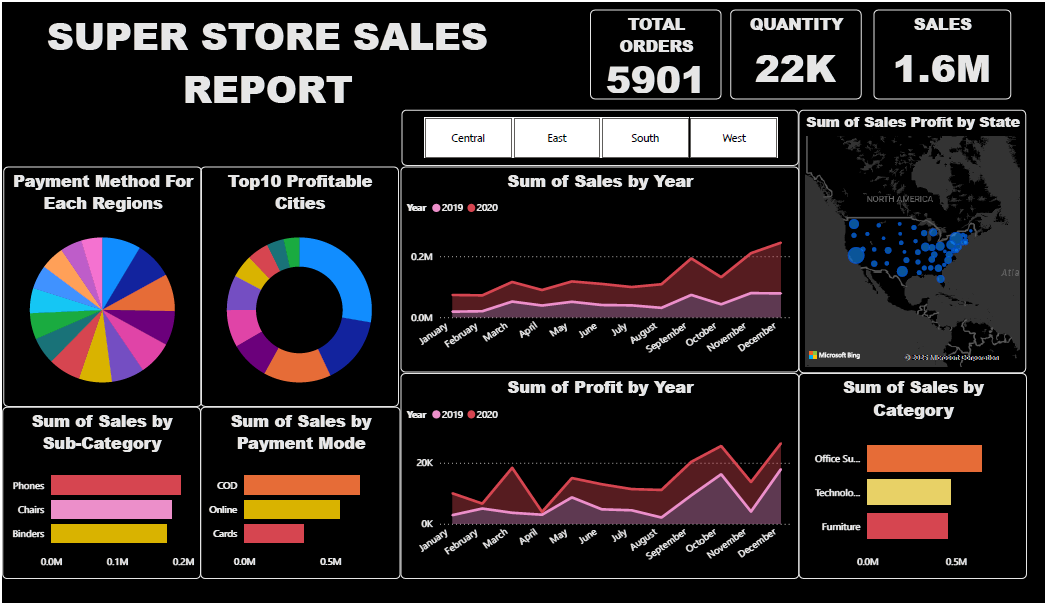

Layout of this report page (visuals, bound fields, positions):
{"tool":"powerbi","page":{"name":"Page 1","canvas":[1280,720],"ordinal":0},"visuals":[{"type":"card","title":"SALES","fields":{"Values":["Sum(SuperStore_Sales_Dataset.Sales)"]},"box":[1088.5,8.7,171.7,112],"z":0},{"type":"stackedAreaChart","title":"Sum of Sales by Year","fields":{"Category":["SuperStore_Sales_Dataset.Order Date.Variation.Date Hierarchy.Month"],"Y":["Sum(SuperStore_Sales_Dataset.Sales)"],"Series":["SuperStore_Sales_Dataset.Order Date.Variation.Date Hierarchy.Year"]},"box":[497.6,205.3,497.6,257.5],"z":1000},{"type":"stackedAreaChart","title":"Sum of Profit by Year","fields":{"Category":["SuperStore_Sales_Dataset.Order Date.Variation.Date Hierarchy.Month"],"Series":["SuperStore_Sales_Dataset.Order Date.Variation.Date Hierarchy.Year"],"Y":["Sum(SuperStore_Sales_Dataset.Profit)"]},"box":[497.6,462.8,497.6,257.5],"z":2000},{"type":"map","title":"Sum of Sales Profit by State","fields":{"Category":["SuperStore_Sales_Dataset.State"],"Size":["Sum(SuperStore_Sales_Dataset.Sales)"]},"box":[994.7,134.2,284.2,328.9],"z":3000},{"type":"clusteredBarChart","fields":{"Y":["Sum(SuperStore_Sales_Dataset.Sales)"],"Category":["SuperStore_Sales_Dataset.Category"]},"box":[995.2,462.8,284.9,257.5],"z":4000},{"type":"clusteredBarChart","fields":{"Y":["Sum(SuperStore_Sales_Dataset.Sales)"],"Category":["SuperStore_Sales_Dataset.Payment Mode"]},"box":[247.5,505,250,215.2],"z":5000},{"type":"clusteredBarChart","fields":{"Y":["Sum(SuperStore_Sales_Dataset.Sales)"],"Category":["SuperStore_Sales_Dataset.Sub-Category"]},"box":[0,505,247.5,215.2],"z":6000},{"type":"donutChart","title":"Top10 Profitable  Cities","fields":{"Y":["Sum(SuperStore_Sales_Dataset.Profit)"],"Category":["SuperStore_Sales_Dataset.City"]},"box":[247.5,205.3,247.5,299.8],"z":7000},{"type":"pieChart","title":"Payment Method For Each Regions","fields":{"Y":["Sum(SuperStore_Sales_Dataset.Sales)"],"Category":["SuperStore_Sales_Dataset.Product Name"]},"box":[1.2,205.3,247.5,299.8],"z":8000},{"type":"card","title":"QUANTITY","fields":{"Values":["Sum(SuperStore_Sales_Dataset.Quantity)"]},"box":[909.3,8.7,164.2,112],"z":9000},{"type":"slicer","fields":{"Values":["SuperStore_Sales_Dataset.Region"]},"box":[498.8,134.3,496.3,69.7],"z":10000},{"type":"card","title":"TOTAL ORDERS","fields":{"Values":["CountNonNull(SuperStore_Sales_Dataset.Order ID)"]},"box":[733.9,8.7,164.2,112],"z":11000},{"type":"textbox","title":"SUPER STORE SALES REPORT","box":[0,8.7,663,139.3],"z":12000}]}

Visuals, with their boxes in screenshot pixels (x1, y1, x2, y2), scaled from the page's 1280x720 canvas onto the 1045x603 screenshot:
"SALES" card: [left=889, top=7, right=1029, bottom=101]
"Sum of Sales by Year" stackedAreaChart: [left=406, top=172, right=812, bottom=388]
"Sum of Profit by Year" stackedAreaChart: [left=406, top=388, right=812, bottom=602]
"Sum of Sales Profit by State" map: [left=812, top=112, right=1044, bottom=388]
clusteredBarChart - Sum(SuperStore_Sales_Dataset.Sales) x SuperStore_Sales_Dataset.Category: [left=812, top=388, right=1044, bottom=602]
clusteredBarChart - Sum(SuperStore_Sales_Dataset.Sales) x SuperStore_Sales_Dataset.Payment Mode: [left=202, top=423, right=406, bottom=602]
clusteredBarChart - Sum(SuperStore_Sales_Dataset.Sales) x SuperStore_Sales_Dataset.Sub-Category: [left=0, top=423, right=202, bottom=602]
"Top10 Profitable  Cities" donutChart: [left=202, top=172, right=404, bottom=423]
"Payment Method For Each Regions" pieChart: [left=1, top=172, right=203, bottom=423]
"QUANTITY" card: [left=742, top=7, right=876, bottom=101]
slicer - SuperStore_Sales_Dataset.Region: [left=407, top=112, right=812, bottom=171]
"TOTAL ORDERS" card: [left=599, top=7, right=733, bottom=101]
"SUPER STORE SALES REPORT" textbox: [left=0, top=7, right=541, bottom=124]
